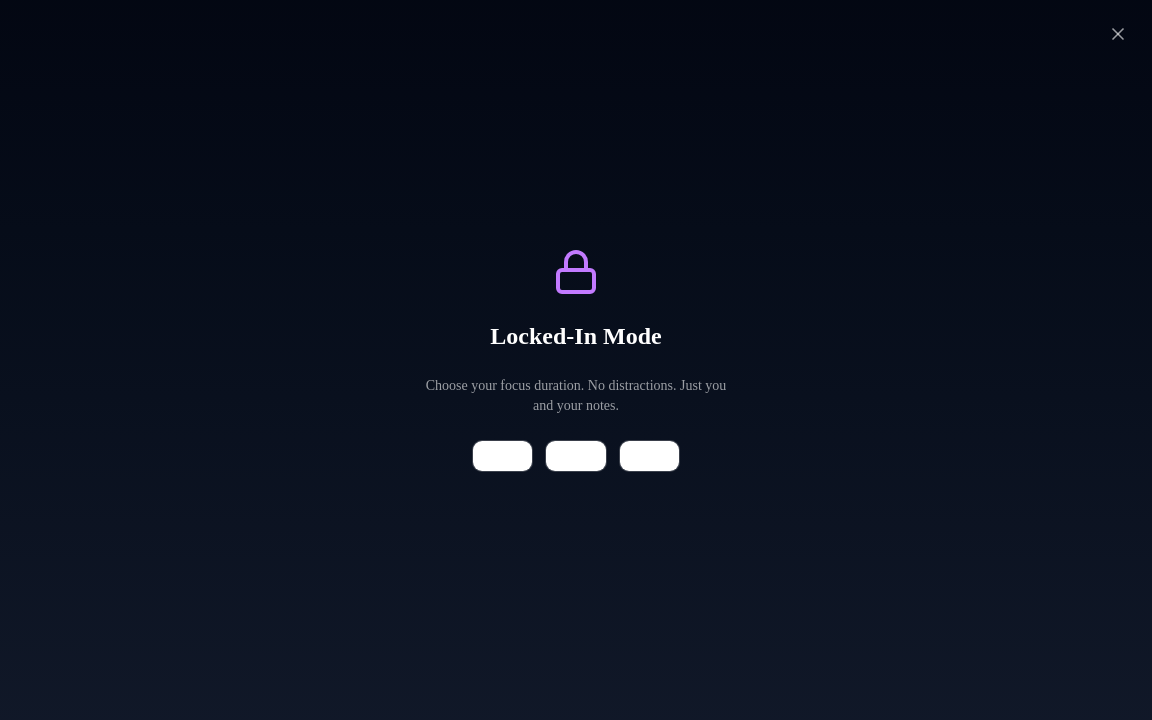
Scenario: LockedInMode Component › shows countdown timer in active phase
This screenshot has width=1152, height=720.
Click the button "25 min" at [503, 456], box [472,440,533,472]
Wait 1000 ms
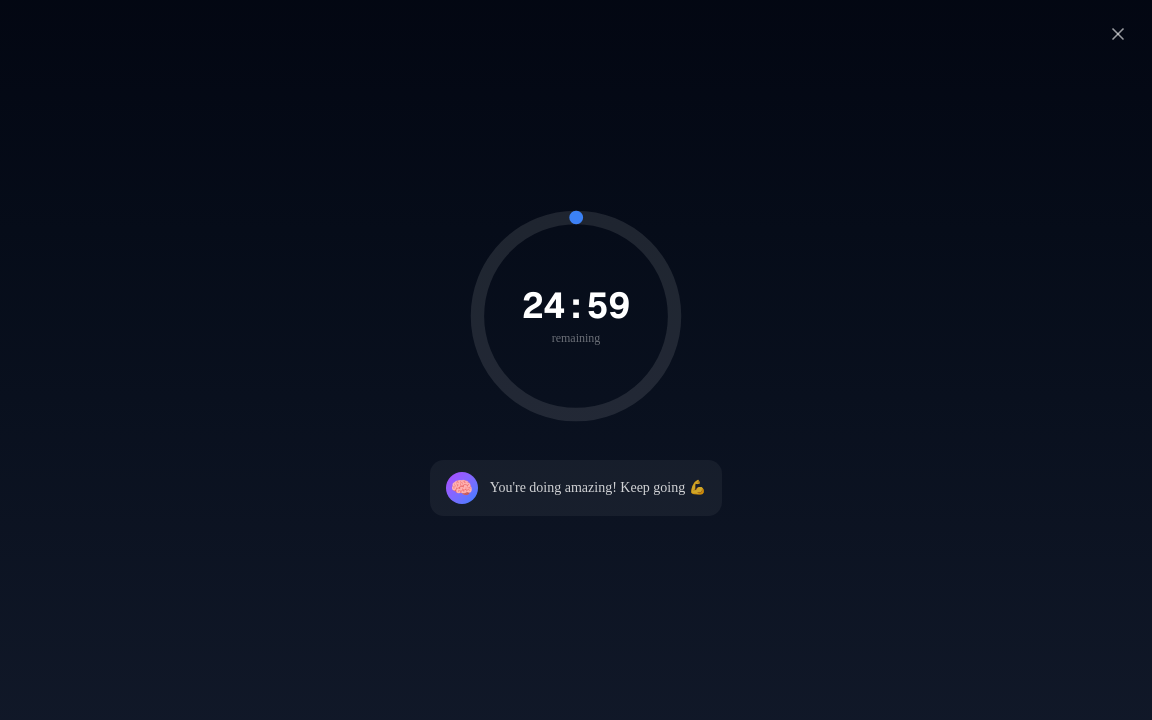
Now the text "24:59" is shown, box [522,286,630,326]
